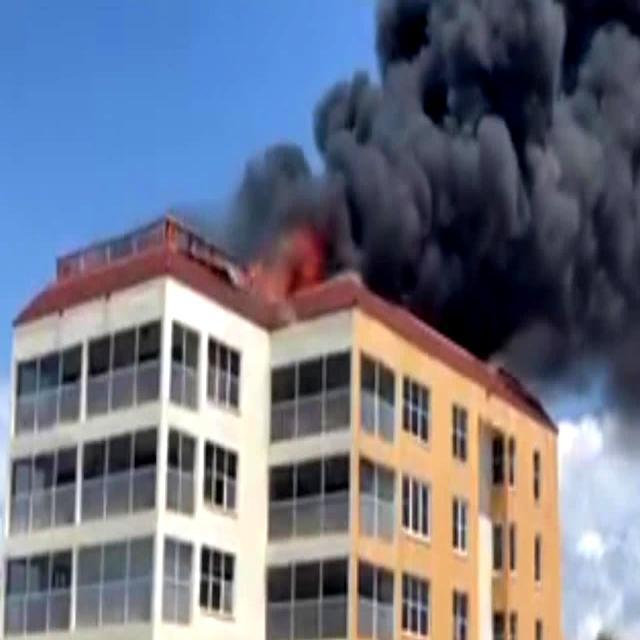Fire: (230, 209, 328, 311)
Smoke: (235, 0, 640, 398)
